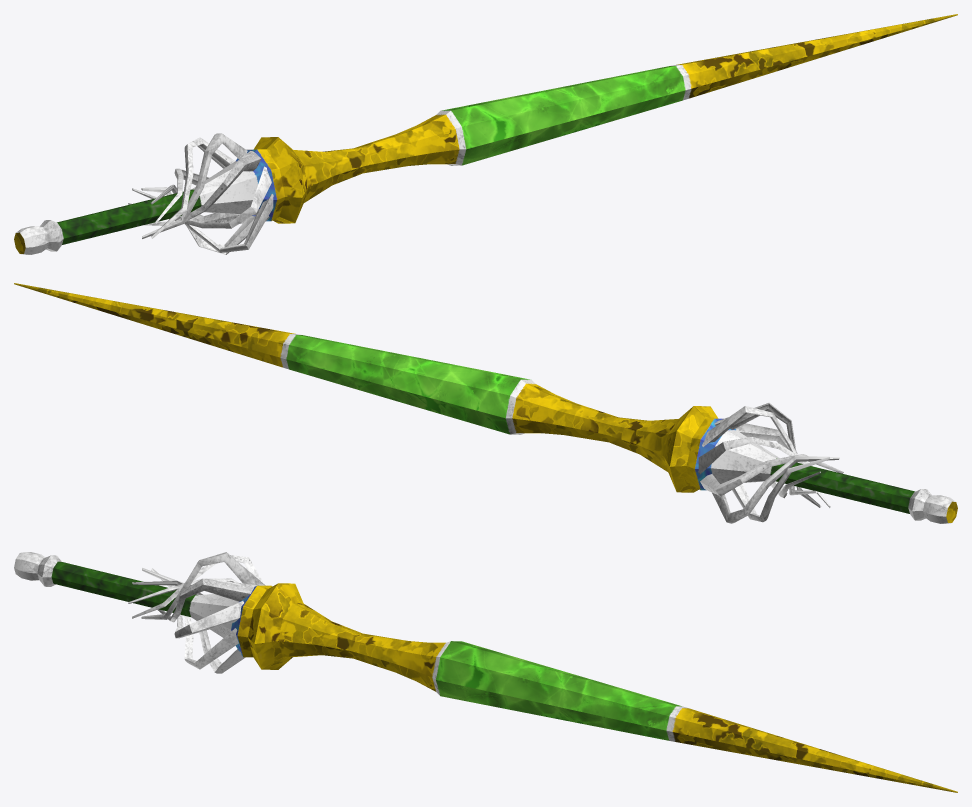
The model's file is ericcil.glb.
3 renders of one model, top to bottom at view 1: azimuth 30°, elevation 25°; view 2: azimuth 150°, elevation 25°; view 3: azimuth 330°, elevation 25°, orthographic.
Parts seen in each view (by area): view 1: Circle; view 2: Circle; view 3: Circle.
Part boxes in pixels (<box>): Circle: <box>14,14,957,254</box>; Circle: <box>14,283,957,523</box>; Circle: <box>14,552,957,792</box>.
Bounding box in the file's own units: 1.7 × 0.202 × 0.202.
5 materials, 5 textured.
